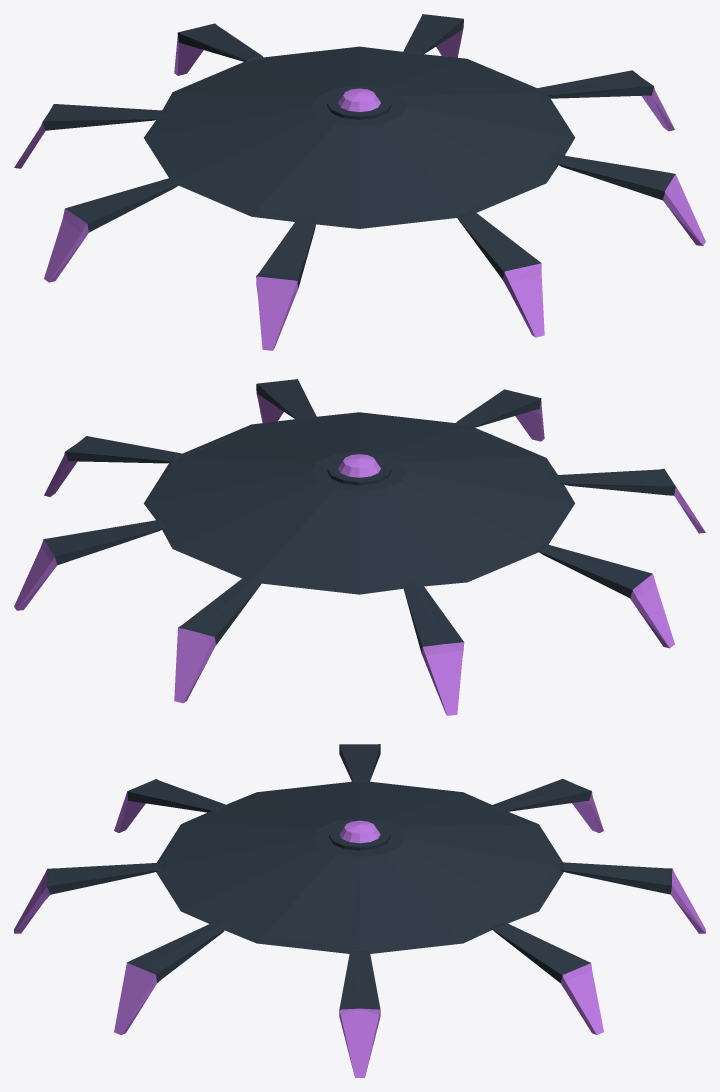
File: Spider_Plant_000006.obj
3 views of the same model, one above another, from view 1: azimuth 30°, elevation 25°; view 2: azimuth 150°, elevation 25°; view 3: azimuth 270°, elevation 25° (orthographic). The views are drawn at different scales.
Parts seen in each view (by area): view 1: Circle_Circle.001; view 2: Circle_Circle.001; view 3: Circle_Circle.001.
Part boxes in pixels (bbox=[...]): Circle_Circle.001: bbox=[14, 14, 705, 350]; Circle_Circle.001: bbox=[14, 379, 705, 715]; Circle_Circle.001: bbox=[14, 744, 705, 1077].
Bounding box in the file's own units: 3.35 × 0.5724 × 3.35.
